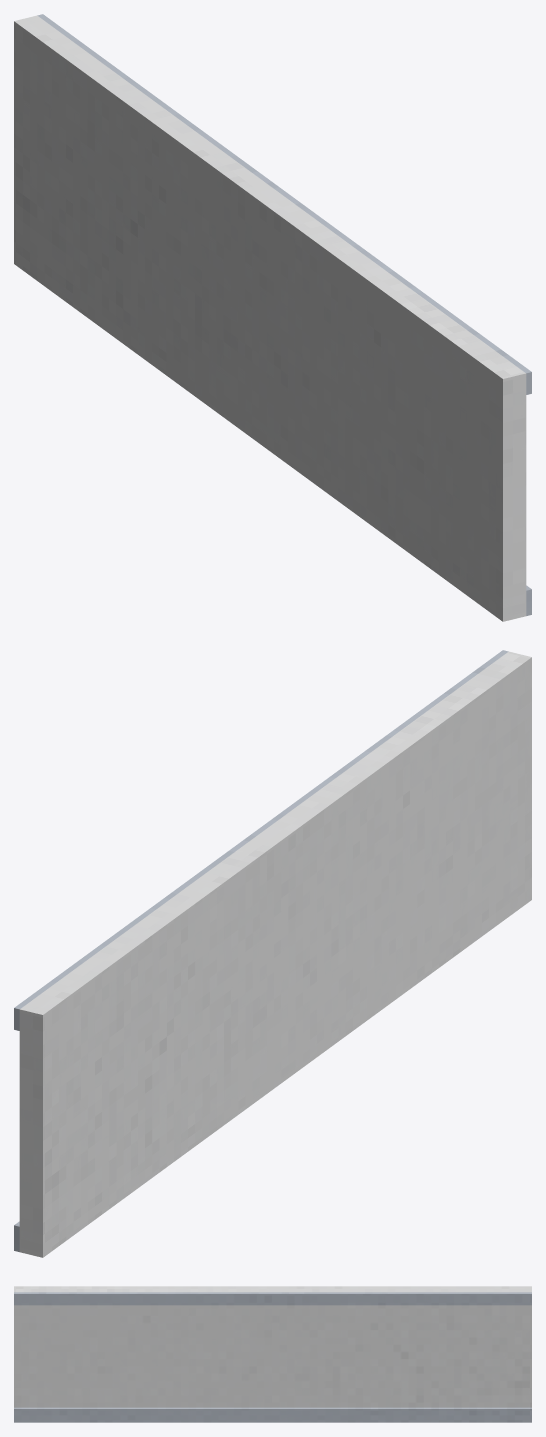
Rendered from WallTemplate2.fbx.
The picture shows the model from 3 angles, top to bottom: view 1: azimuth 30°, elevation 25°; view 2: azimuth 150°, elevation 25°; view 3: azimuth 270°, elevation 25°; orthographic projection. The views are drawn at different scales.
Visible parts, largest first — view 1: WallTemplateV2; view 2: WallTemplateV2; view 3: WallTemplateV2.
Boxes of the visible parts, x1,y1,x2,y2 form: WallTemplateV2: [14, 14, 531, 621]; WallTemplateV2: [14, 650, 531, 1257]; WallTemplateV2: [14, 1286, 531, 1422].
Size of the model in its own units: 250 by 2000 by 7300.
